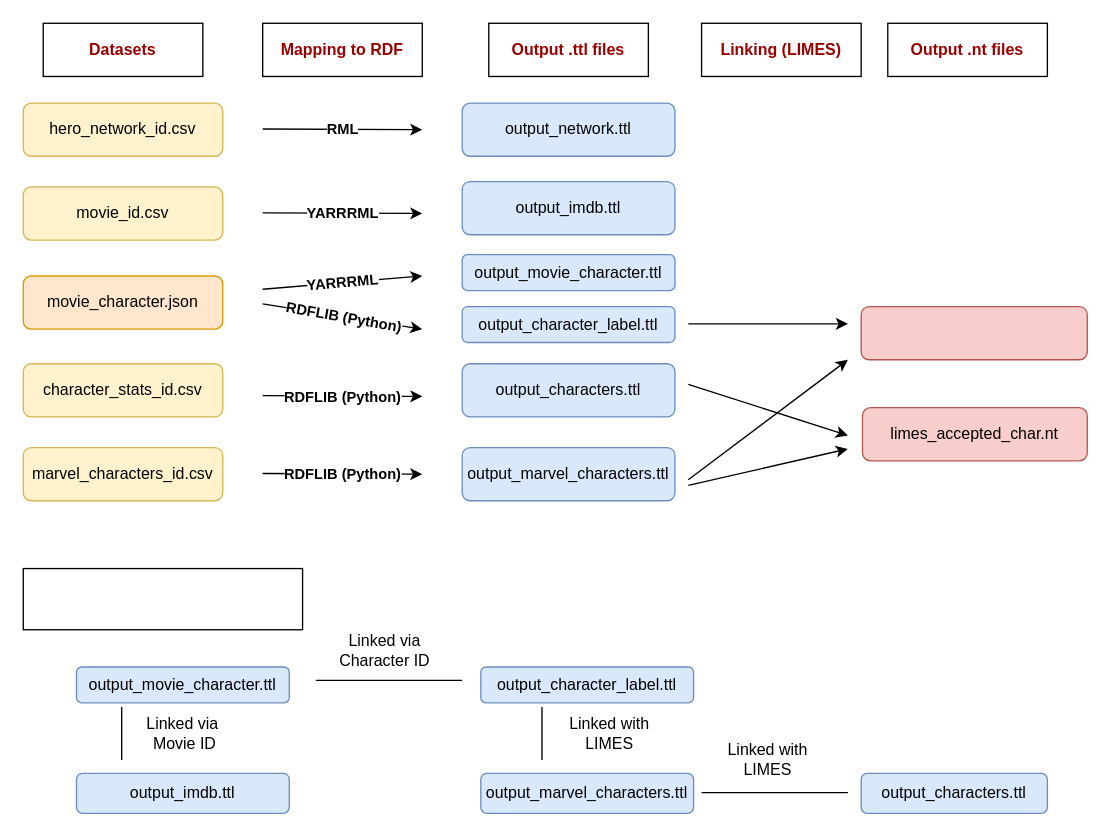
The diagram is 1111 pixels wide and 837 high, and some of its shapes have lost their labels. The centre of each missing label's shape, as x and y in pixels:
Connection between the datasets: (x=162, y=598)
limes_accepted_movieChar.nt: (x=973, y=332)
